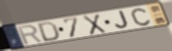7: (63, 16, 81, 39)
C: (130, 7, 152, 26)
D: (37, 21, 61, 43)
J: (114, 10, 131, 30)
R: (16, 24, 44, 46)
X: (82, 13, 108, 36)
